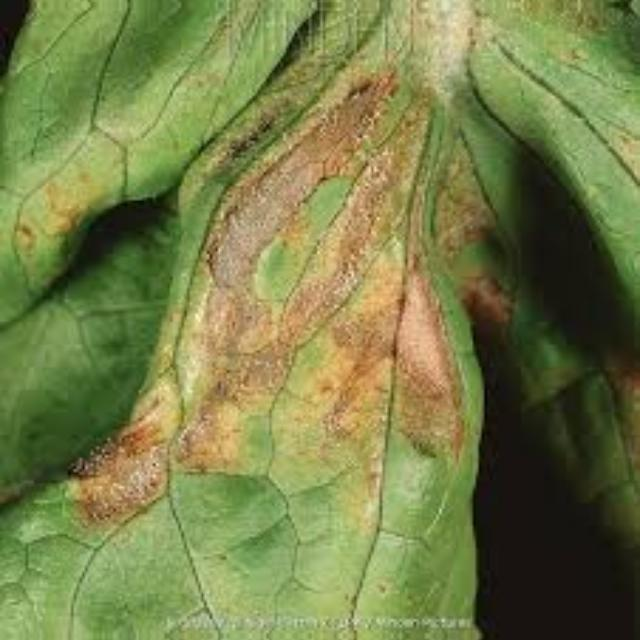Downy_mildew: (100, 72, 640, 620)
